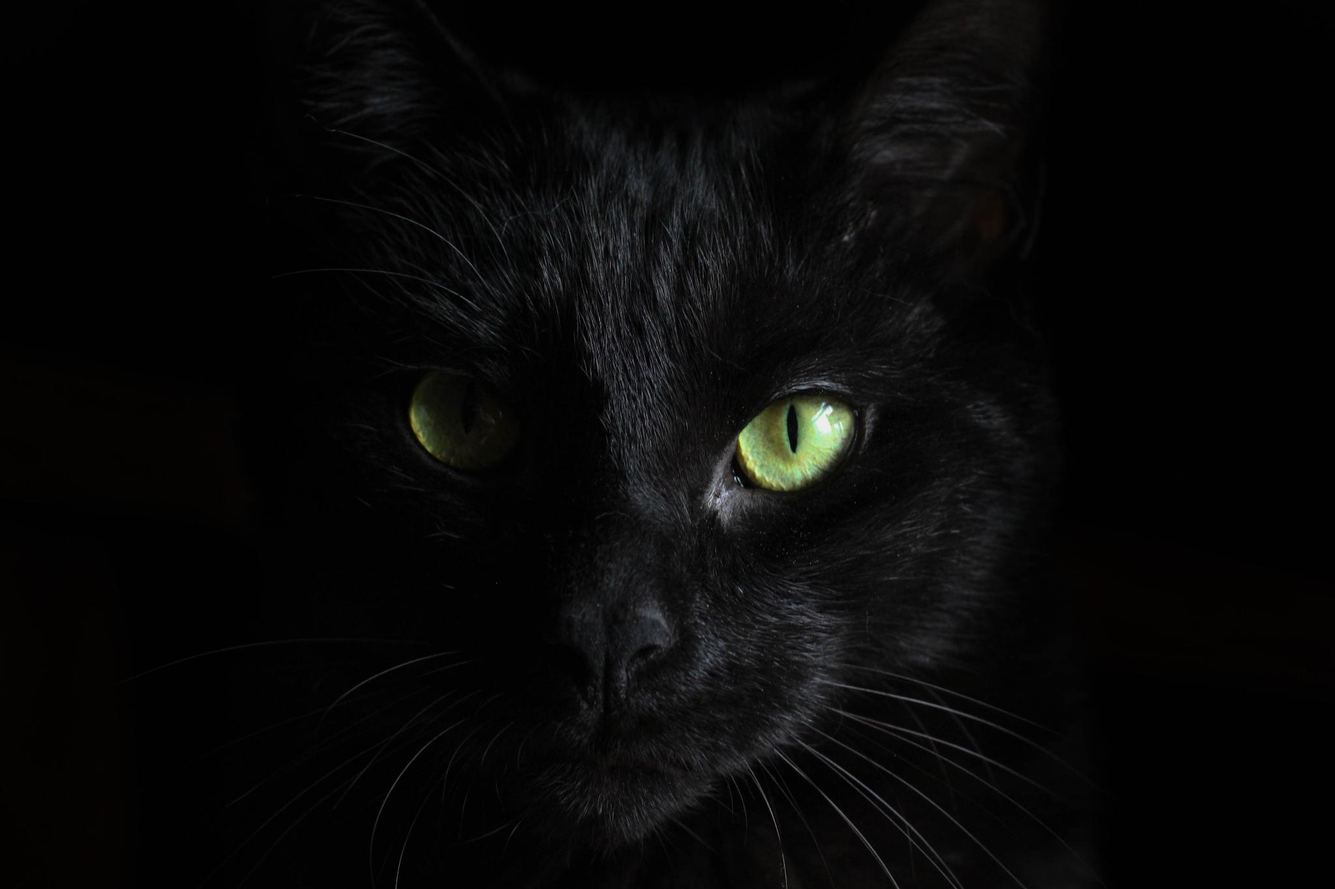cat: (153, 2, 1101, 886)
